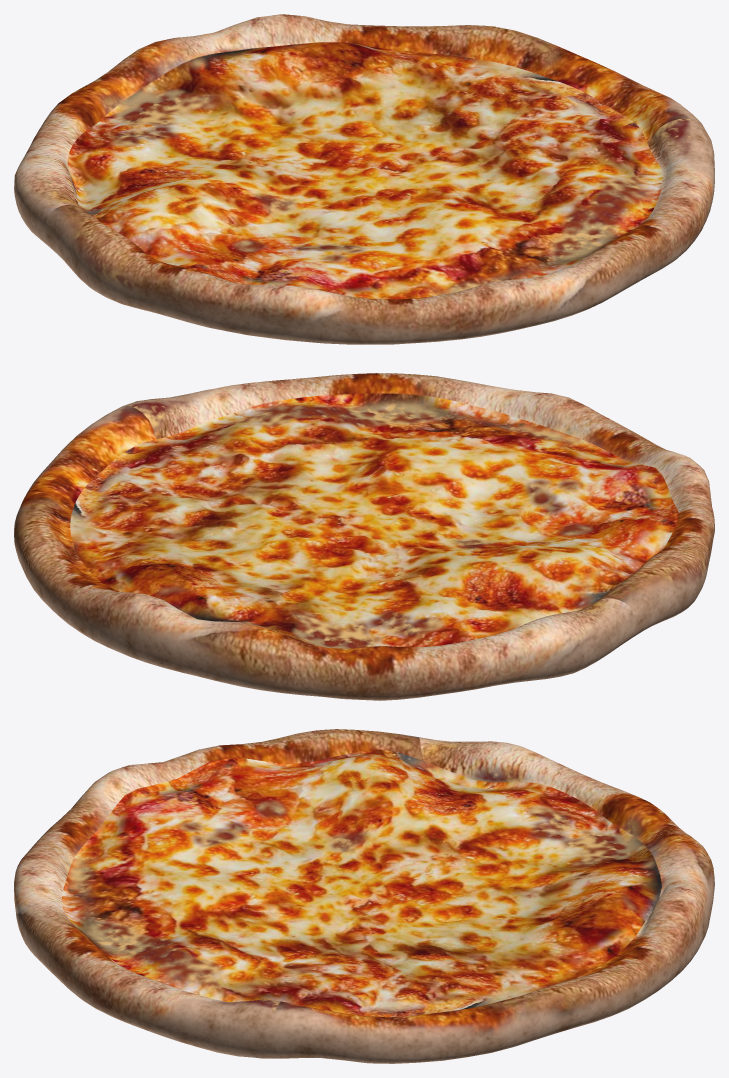
File: pizza.glb
3 renders of one model, top to bottom at view 1: azimuth 30°, elevation 25°; view 2: azimuth 150°, elevation 25°; view 3: azimuth 270°, elevation 25°, orthographic.
Parts seen in each view (by area): view 1: piza_low_01:Group259_0; view 2: piza_low_01:Group259_0; view 3: piza_low_01:Group259_0.
Part boxes in pixels (left/top/right/bottom): piza_low_01:Group259_0: left=14, top=14, right=714, bottom=344; piza_low_01:Group259_0: left=14, top=373, right=714, bottom=700; piza_low_01:Group259_0: left=14, top=729, right=714, bottom=1063.
Bounding box in the file's own units: 49.15 × 4.96 × 49.04.
1 material, 1 textured.
